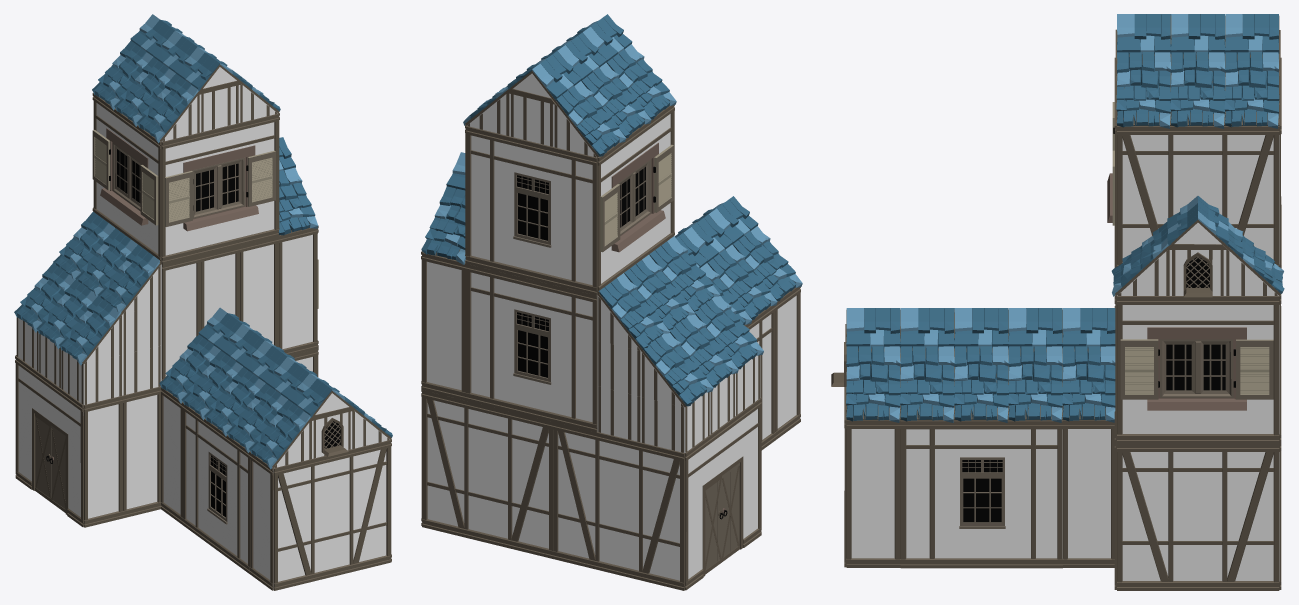
Rendered from House_17_full.glb.
3 views of the same model, side by side, from view 1: azimuth 30°, elevation 25°; view 2: azimuth 150°, elevation 25°; view 3: azimuth 270°, elevation 25° (orthographic). The views are drawn at different scales.
Visible parts, largest first — view 1: WINDOW_06_3, WALL_02_2, DOOR_03_2, WINDOW_03_2, WINDOW_06_4, WALL_03_8, WALL_03_10, WALL_03_7, WALL_03_13, WALL_03_11, WALL_03_4, WALL_03_3 (+40 smaller); view 2: WINDOW_03_5, WALL_02_5, WINDOW_03_4, WALL_02_4, DOOR_03_2, WINDOW_06_4, WALL_03_14, WALL_03_4, ROOF_base_16, ROOF_base_18, ROOF_base_17, ROOF_base_24 (+27 smaller); view 3: WINDOW_03_3, WINDOW_06_2, WALL_02_3, WALL_02_6, WALL_03_5, WALL_03_6, ROOF_base_5, ROOF_base_6, ROOF_base_4, ROOF_base_3, ROOF_base_21, ROOF_base_23 (+19 smaller).
Part boxes in pixels (bbox=[...]): WINDOW_06_3: bbox=[161, 113, 279, 264]; WALL_02_2: bbox=[273, 440, 391, 590]; DOOR_03_2: bbox=[15, 356, 83, 527]; WINDOW_03_2: bbox=[182, 403, 250, 573]; WINDOW_06_4: bbox=[92, 93, 161, 263]; WALL_03_8: bbox=[84, 395, 123, 527]; WALL_03_10: bbox=[278, 228, 317, 355]; WALL_03_7: bbox=[123, 386, 161, 517]; WALL_03_13: bbox=[161, 255, 201, 380]; WALL_03_11: bbox=[239, 236, 278, 347]; WALL_03_4: bbox=[249, 452, 273, 590]; WALL_03_3: bbox=[160, 386, 183, 524]; WINDOW_03_5: bbox=[465, 126, 597, 295]; WALL_02_5: bbox=[553, 422, 684, 590]; WINDOW_03_4: bbox=[465, 264, 597, 432]; WALL_02_4: bbox=[422, 390, 553, 558]; DOOR_03_2: bbox=[685, 398, 761, 590]; WINDOW_06_4: bbox=[597, 105, 674, 294]; WALL_03_14: bbox=[422, 252, 466, 400]; WALL_03_4: bbox=[774, 287, 800, 439]; ROOF_base_16: bbox=[597, 273, 669, 350]; ROOF_base_18: bbox=[554, 81, 626, 157]; ROOF_base_17: bbox=[641, 332, 713, 406]; ROOF_base_24: bbox=[421, 186, 466, 264]; WINDOW_03_3: bbox=[900, 420, 1062, 568]; WINDOW_06_2: bbox=[1117, 296, 1279, 443]; WALL_02_3: bbox=[1117, 444, 1279, 590]; WALL_02_6: bbox=[1117, 126, 1279, 266]; WALL_03_5: bbox=[846, 420, 900, 567]; WALL_03_6: bbox=[1063, 420, 1115, 567]; ROOF_base_5: bbox=[900, 346, 954, 422]; ROOF_base_6: bbox=[846, 345, 900, 422]; ROOF_base_4: bbox=[954, 346, 1008, 422]; ROOF_base_3: bbox=[1008, 346, 1062, 422]; ROOF_base_21: bbox=[1224, 52, 1279, 128]; ROOF_base_23: bbox=[1116, 52, 1171, 128].
Bounding box in the file's own units: 6.38 × 10.59 × 8.38.
1 material, 1 textured.
